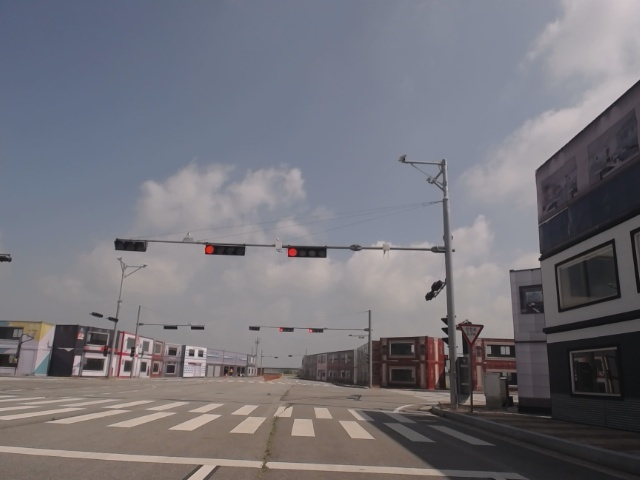red_4: (289, 245, 328, 258), (206, 243, 247, 255)
